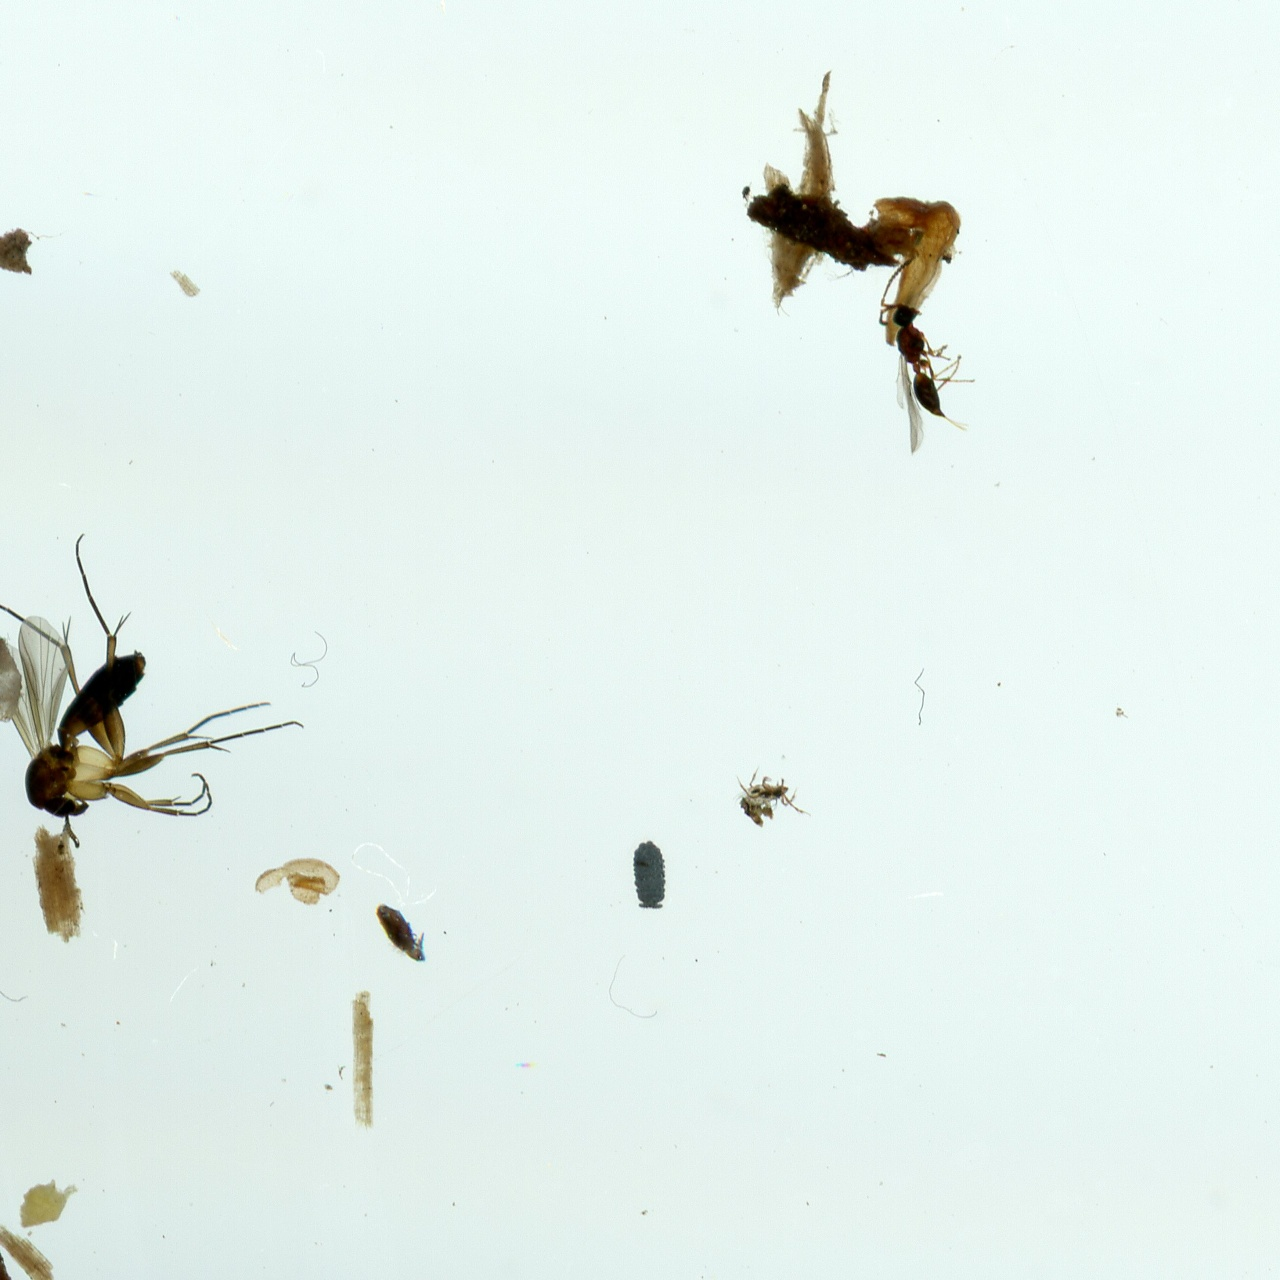arthropod: (0, 525, 316, 855), (842, 233, 999, 469), (366, 888, 443, 979), (734, 763, 813, 828), (632, 839, 666, 910)
